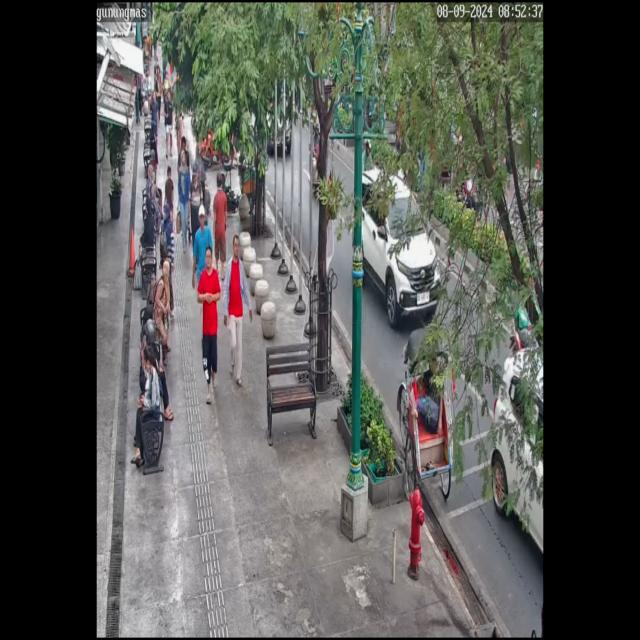Car: (351, 160, 438, 334), (486, 343, 544, 570)
